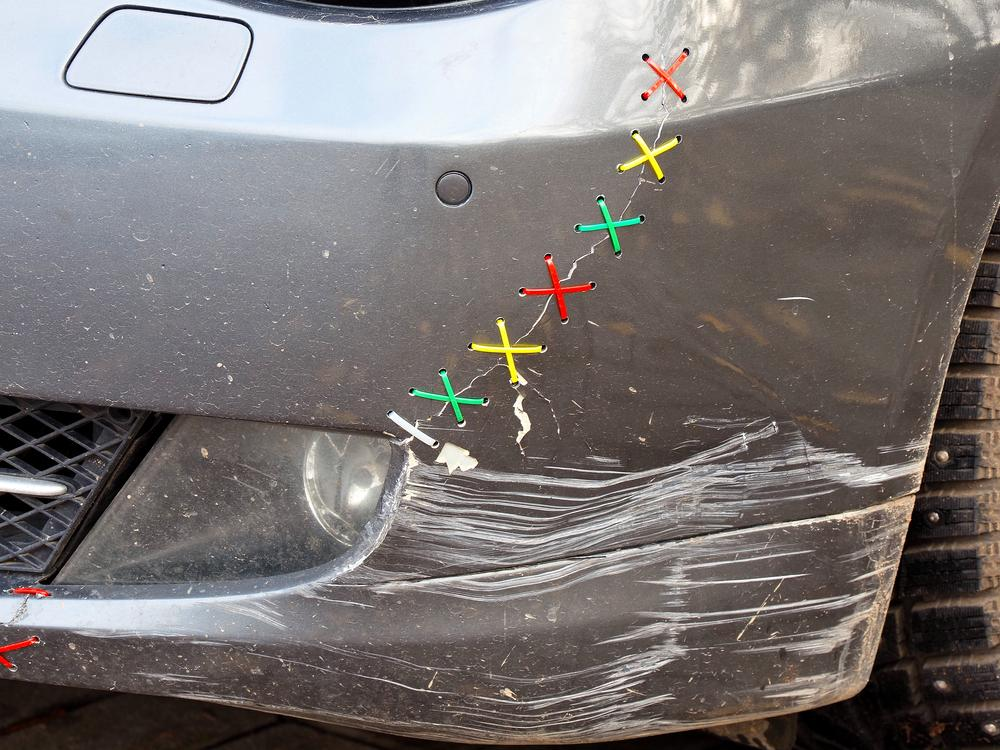scratch: (70, 405, 934, 745)
